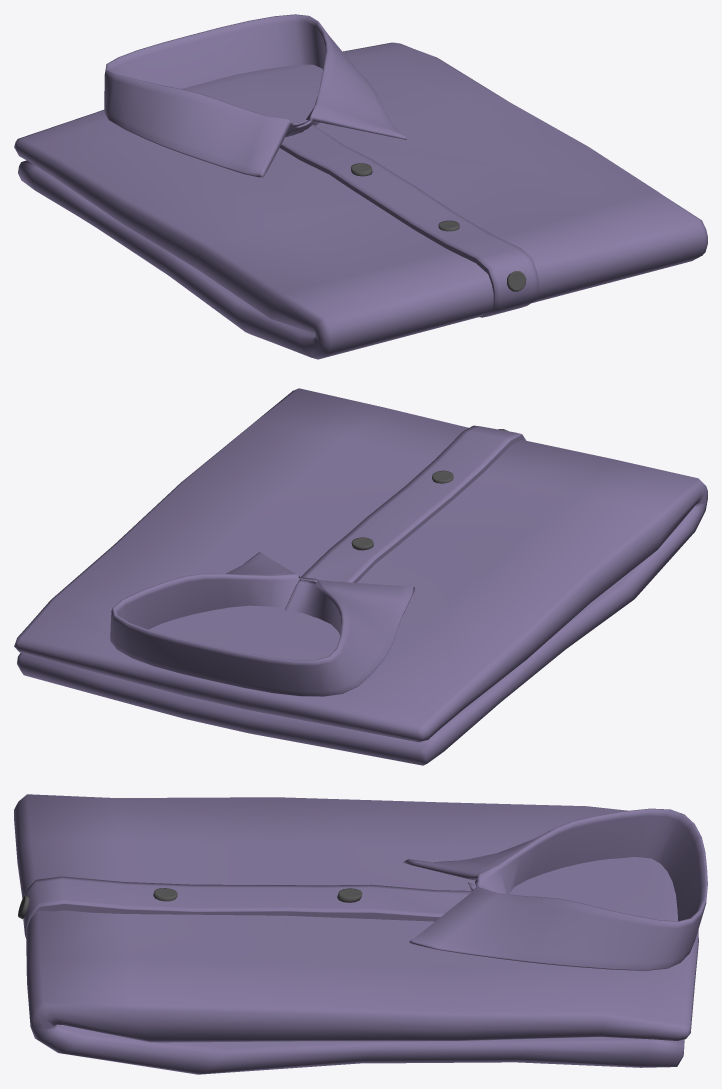
The model's file is Folded_Shirt08.fbx.
3 views of the same model, one above another, from view 1: azimuth 30°, elevation 25°; view 2: azimuth 150°, elevation 25°; view 3: azimuth 270°, elevation 25° (orthographic). The views are drawn at different scales.
Parts seen in each view (by area): view 1: Folded_Shirt08; view 2: Folded_Shirt08; view 3: Folded_Shirt08.
Part boxes in pixels (left/top/right/bottom): Folded_Shirt08: left=14, top=14, right=707, bottom=359; Folded_Shirt08: left=14, top=388, right=707, bottom=765; Folded_Shirt08: left=14, top=794, right=707, bottom=1074.
Bounding box in the file's own units: 25.48 × 5.51 × 33.46.
